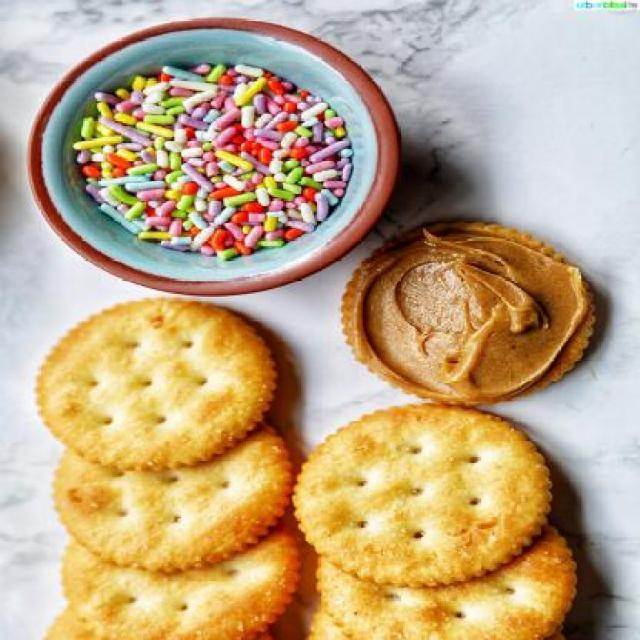Ritz cracker packaged: (36, 318, 295, 640), (300, 407, 574, 640)
Spread: (384, 252, 552, 370)
